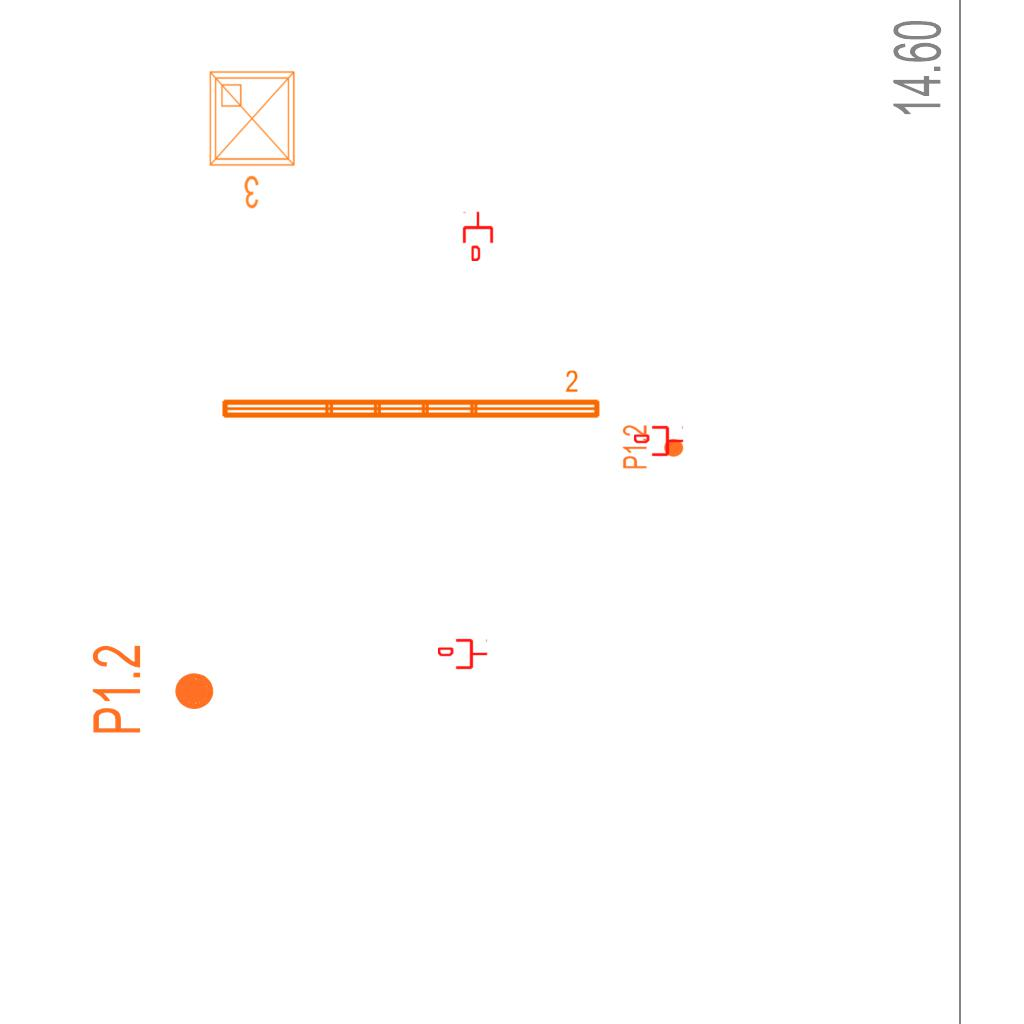Ambulanz_Pendelleuchte_LED: (217, 368, 604, 424)
Datenanschluss_einfach: (461, 211, 495, 261), (438, 637, 488, 671), (634, 424, 684, 458)
Downlight_LED_Einbauleuchten_Flur: (89, 643, 217, 736), (621, 424, 685, 470)
Einbaudownlights_LED_Konferenzraeume: (202, 64, 306, 214)
